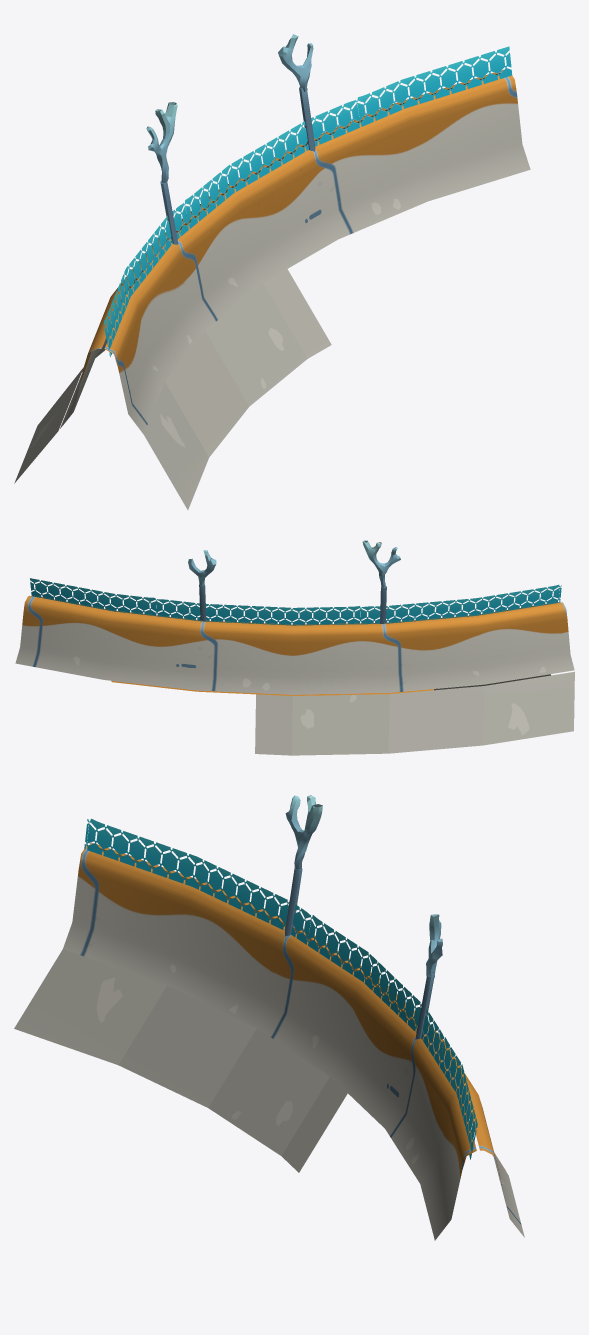
The model's file is S_Wall_07.fbx.
3 renders of one model, top to bottom at view 1: azimuth 30°, elevation 25°; view 2: azimuth 150°, elevation 25°; view 3: azimuth 270°, elevation 25°, orthographic. The views are drawn at different scales.
Visible parts, largest first — view 1: S_Wall_07; view 2: S_Wall_07; view 3: S_Wall_07.
Boxes of the visible parts, x1=… form: S_Wall_07: x1=14, y1=34, x2=530, y2=509; S_Wall_07: x1=15, y1=540, x2=574, y2=755; S_Wall_07: x1=14, y1=795, x2=524, y2=1240.
Size of the model in its own units: 1038 by 410 by 712.
Materials: 1 (1 with a texture image).
